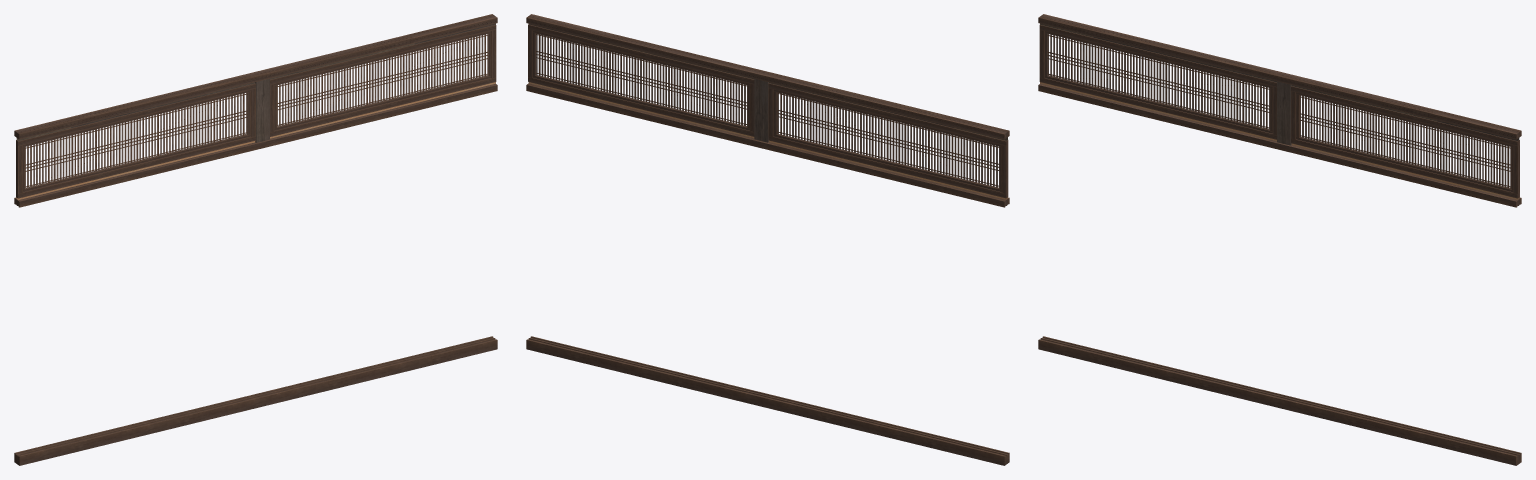
Rendered from jov_inwall_ranma_2t04.fbx.
3 renders of one model, left to right at view 1: azimuth 30°, elevation 25°; view 2: azimuth 150°, elevation 25°; view 3: azimuth 330°, elevation 25°, orthographic.
Visible parts, largest first — view 1: jov_inwall_ranma_2t04; view 2: jov_inwall_ranma_2t04; view 3: jov_inwall_ranma_2t04.
Boxes of the visible parts, box(x1,y1,x2,y2) form: jov_inwall_ranma_2t04: box(14, 14, 497, 465); jov_inwall_ranma_2t04: box(526, 14, 1009, 465); jov_inwall_ranma_2t04: box(1038, 14, 1521, 465).
Size of the model in its own units: 440 by 292 by 8.22.
